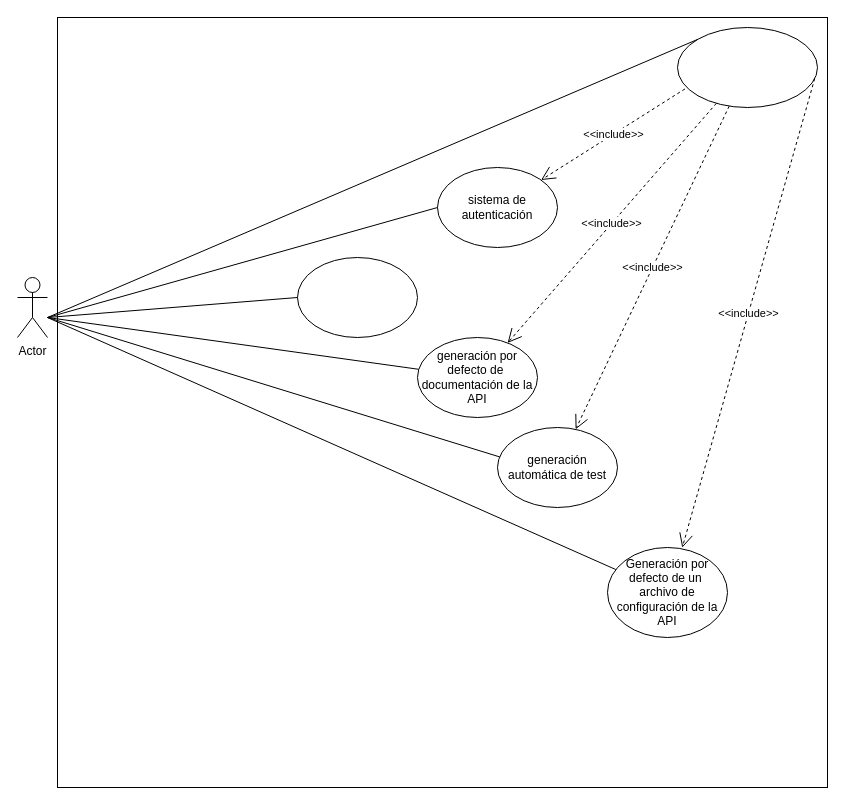
The diagram is 847 pixels wide and 805 high, and some of its shapes have lost their labels. The box of each missing label's shape, as (x1, y1, x2, y2) in pixels:
generar API: (676, 26, 818, 108)
generar APIs personalizadas: (296, 256, 418, 338)
